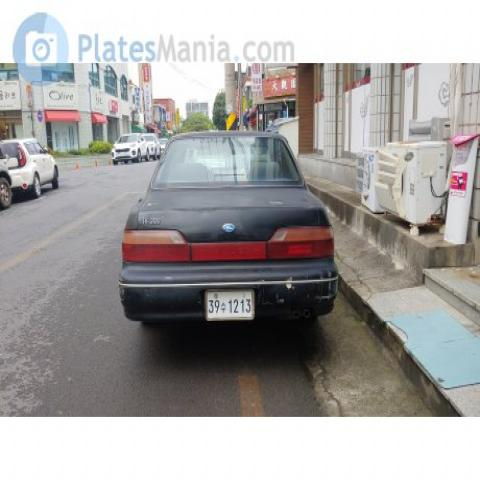LP: (200, 284, 262, 328)
